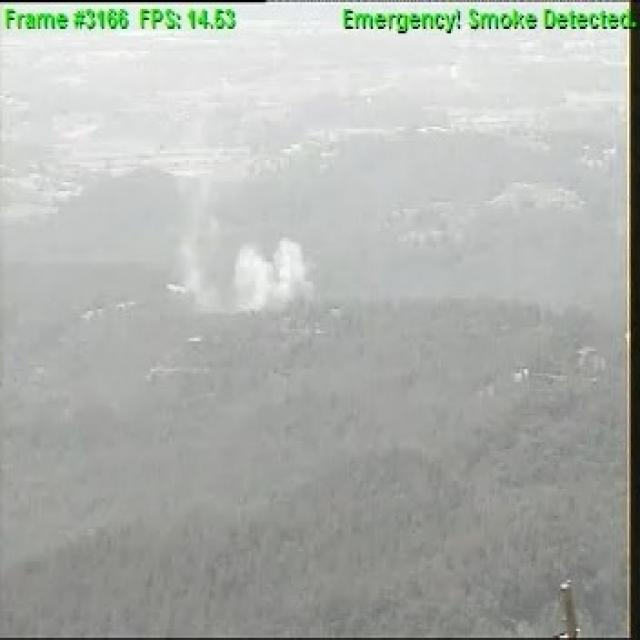smoke: (182, 218, 310, 313)
